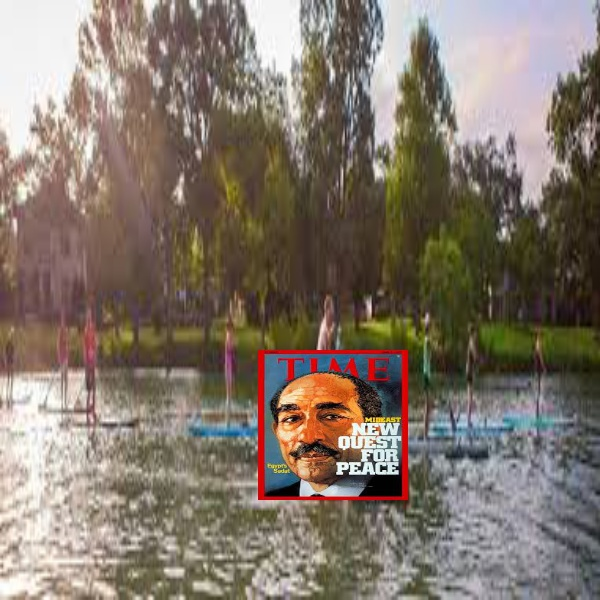time_cover: (256, 338, 414, 511)
